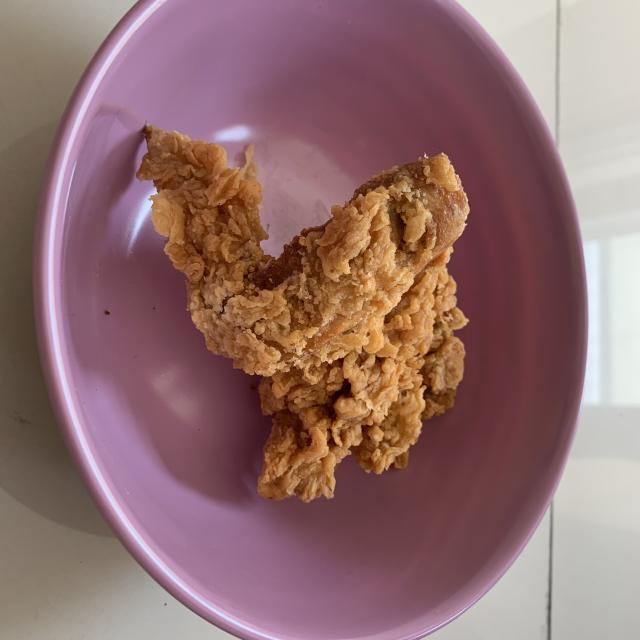Frango: (138, 124, 468, 504)
